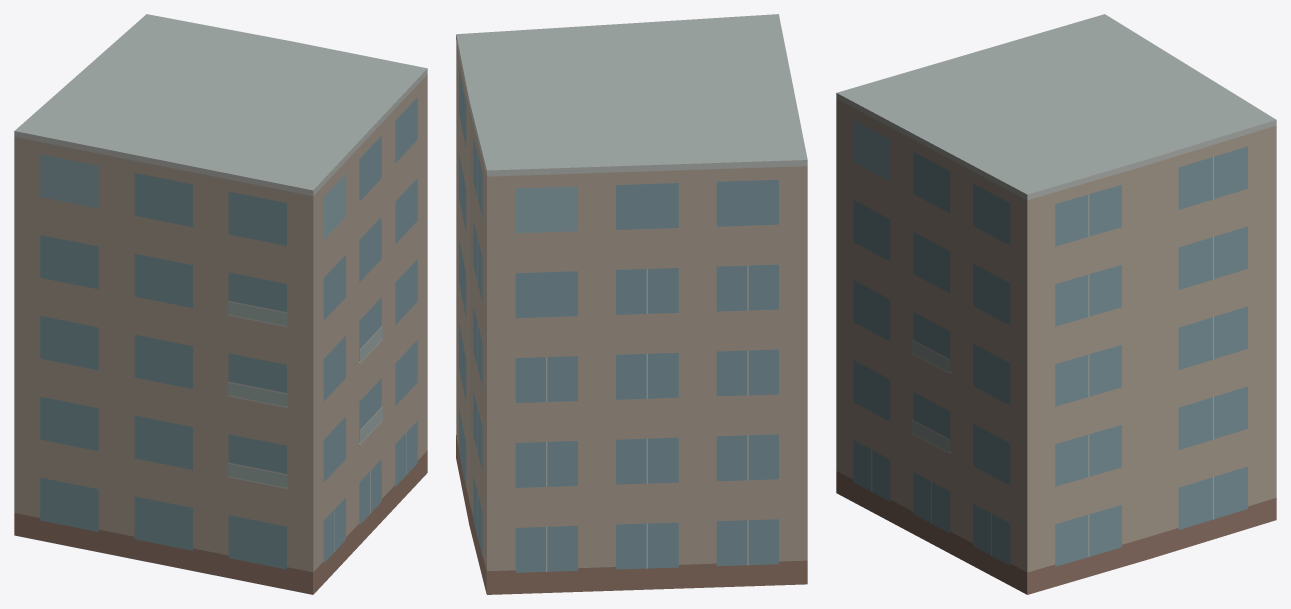
The model's file is survey-upis-32584821.glb.
3 renders of one model, left to right at view 1: azimuth 30°, elevation 25°; view 2: azimuth 150°, elevation 25°; view 3: azimuth 270°, elevation 25°, orthographic. The views are drawn at different scales.
Visible parts, largest first — view 1: survey-upis-32584821.tmp; view 2: survey-upis-32584821.tmp; view 3: survey-upis-32584821.tmp.
Boxes of the visible parts, x1,y1,x2,y2 form: survey-upis-32584821.tmp: (14, 14, 427, 594); survey-upis-32584821.tmp: (456, 14, 807, 594); survey-upis-32584821.tmp: (836, 14, 1276, 594).
Bounding box in the file's own units: 16.52 × 17.05 × 17.01.
